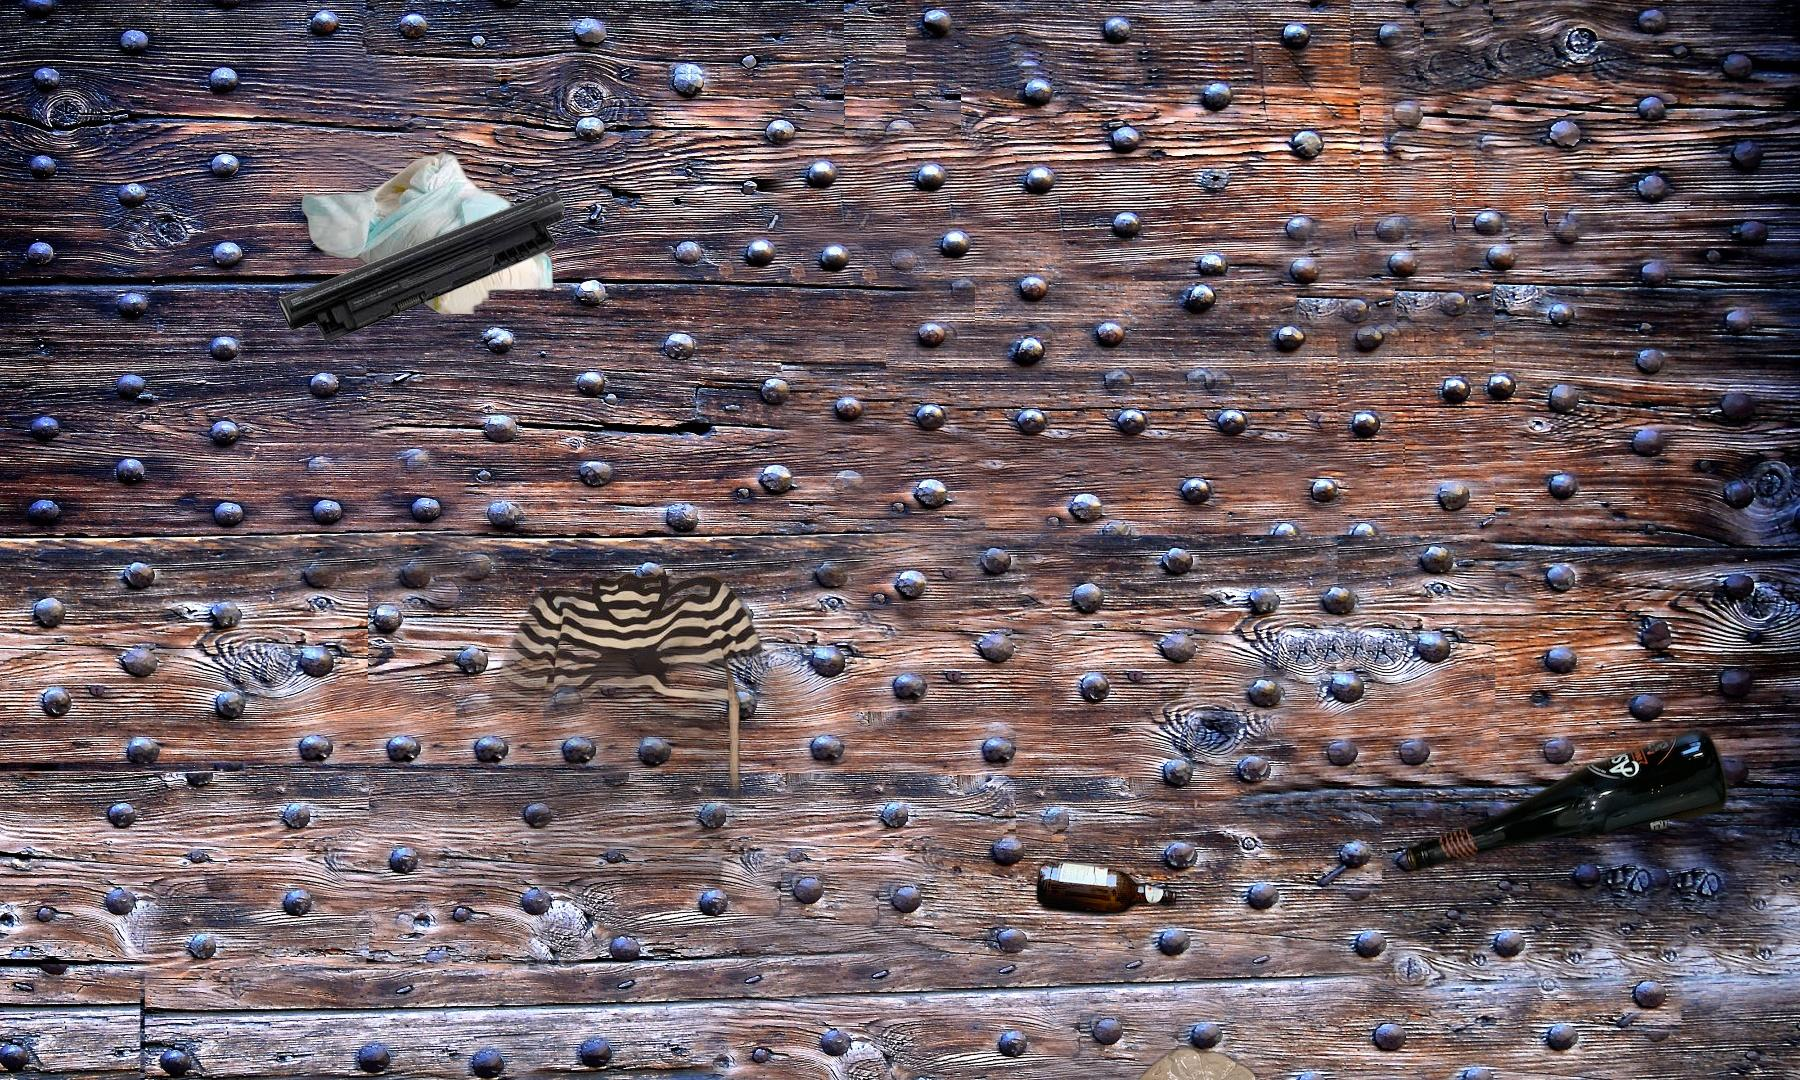battery: (274, 188, 568, 345)
clothes: (433, 549, 833, 949)
glass: (1401, 725, 1734, 953), (1032, 854, 1182, 923)
metal-cans: (1632, 293, 1800, 615)
plastic-bottles: (1095, 1043, 1279, 1080)
trash: (300, 147, 561, 314)
